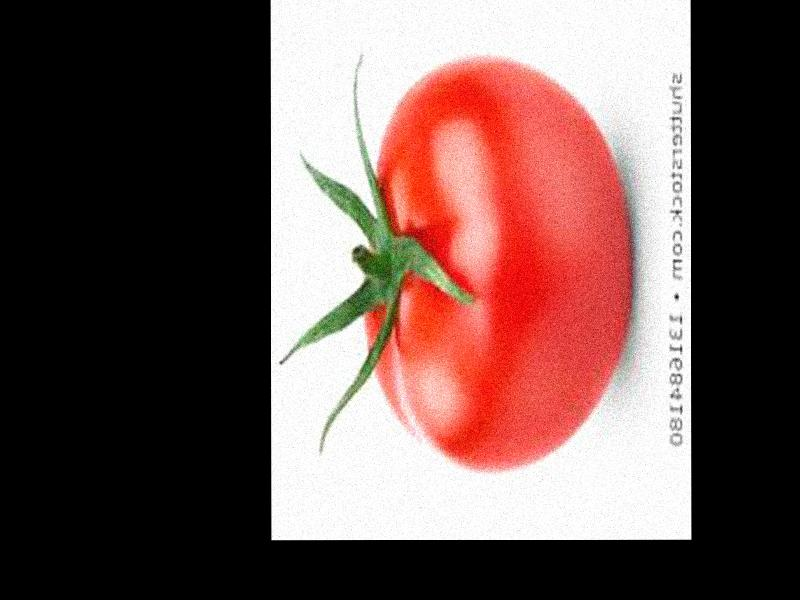Tomato: (366, 57, 628, 473)
